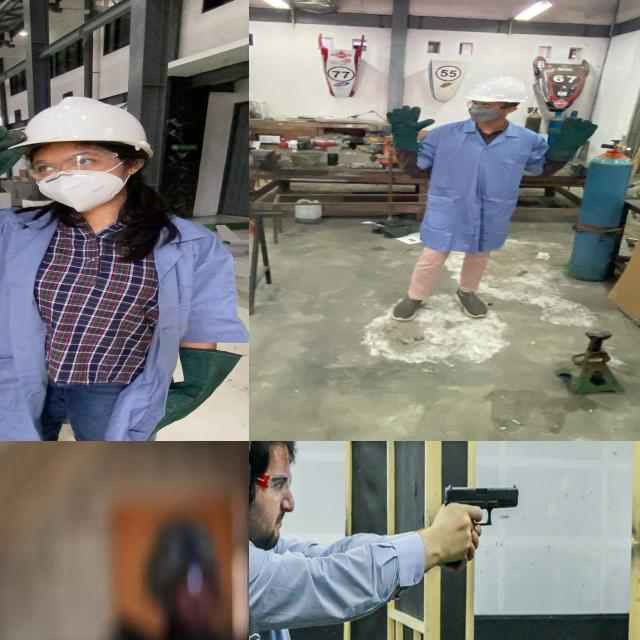Ear-protection: (249, 441, 303, 546)
face_mask: (20, 143, 128, 214), (466, 98, 510, 125)
glasses: (20, 147, 121, 182), (462, 99, 515, 110)
hand_glove: (0, 115, 31, 185), (540, 116, 600, 150), (379, 104, 440, 137)
head_helmet: (9, 95, 150, 149), (140, 510, 227, 592), (463, 74, 535, 105)
person: (0, 84, 249, 441), (359, 79, 610, 328), (75, 500, 249, 640)
shoes: (445, 285, 505, 324), (385, 284, 437, 324)
